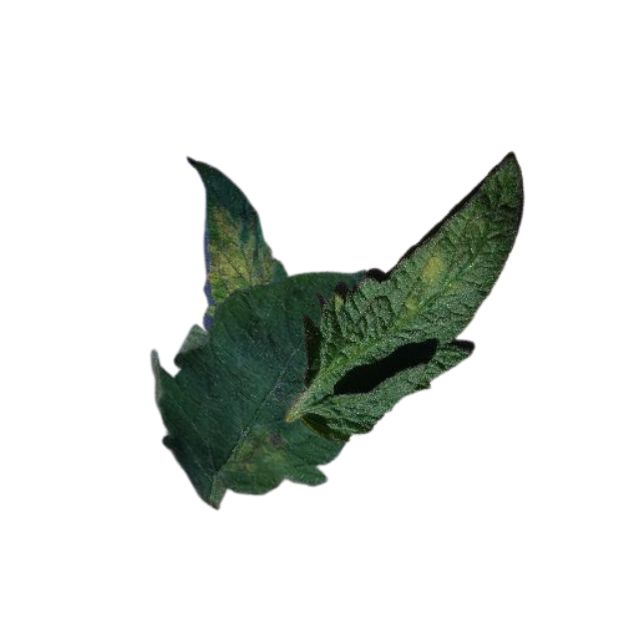Leaf_Mold: (202, 201, 278, 311), (212, 421, 308, 495), (416, 250, 453, 286)
